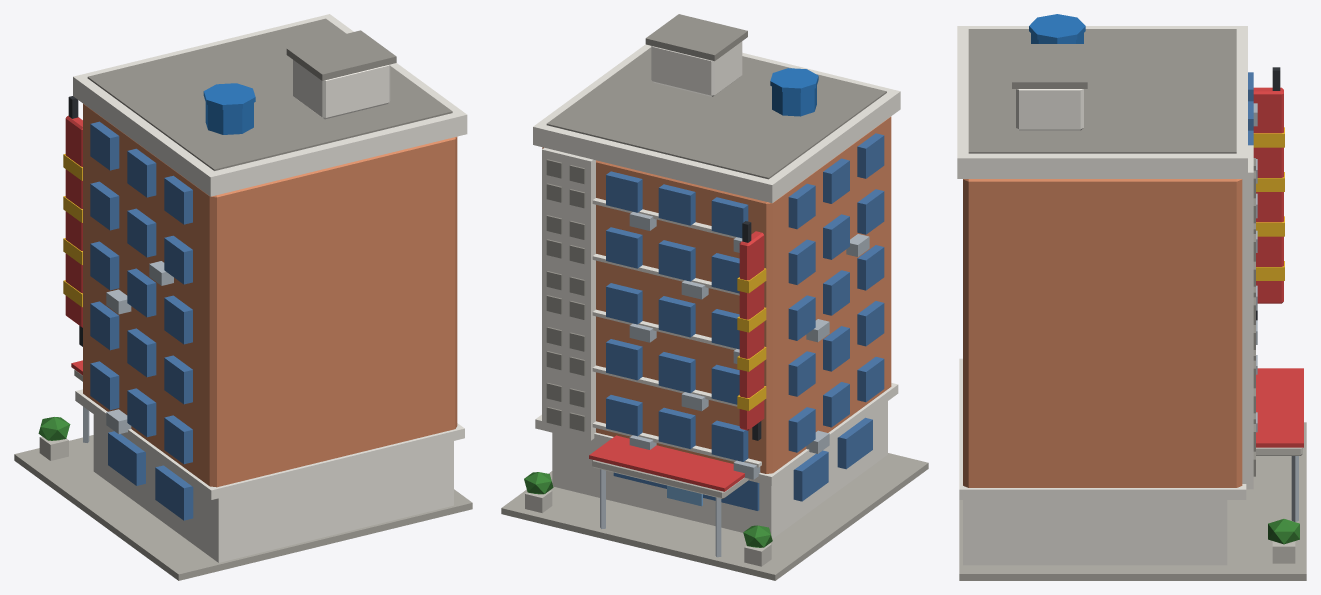
Rendered from predio_hotel.glb.
The picture shows the model from 3 angles, left to right: view 1: azimuth 30°, elevation 25°; view 2: azimuth 150°, elevation 25°; view 3: azimuth 270°, elevation 25°; orthographic projection. The views are drawn at different scales.
Visible parts, largest first — view 1: corpo; view 2: corpo; view 3: corpo.
Boxes of the visible parts, x1=… form: corpo: x1=14, y1=14, x2=472, y2=580; corpo: x1=501, y1=14, x2=928, y2=580; corpo: x1=957, y1=14, x2=1306, y2=580.
Bounding box in the file's own units: 0.95 × 1.38 × 0.925.
